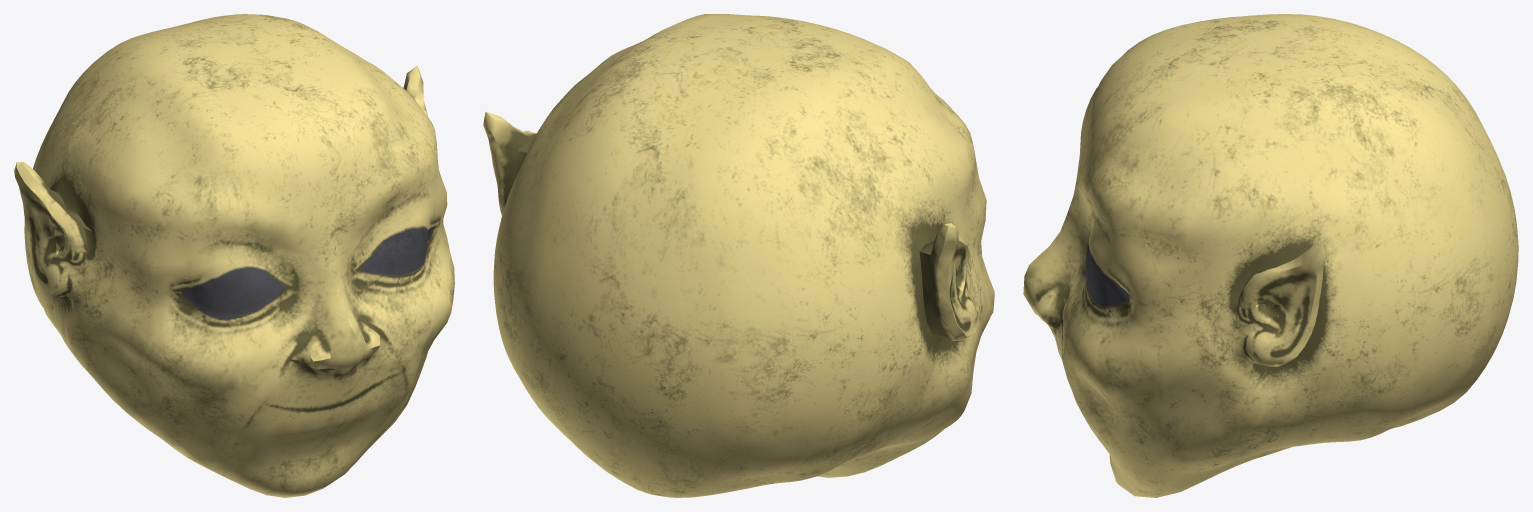
File: goblin_artifact.glb
3 views of the same model, side by side, from view 1: azimuth 30°, elevation 25°; view 2: azimuth 150°, elevation 25°; view 3: azimuth 270°, elevation 25° (orthographic). The views are drawn at different scales.
Visible parts, largest first — view 1: Object_2; view 2: Object_2; view 3: Object_2.
Boxes of the visible parts, bbox=[...] form: Object_2: bbox=[14, 14, 454, 497]; Object_2: bbox=[483, 14, 994, 497]; Object_2: bbox=[1023, 14, 1518, 497].
Size of the model in its own units: 234 by 223 by 227.
1 material, 1 textured.
